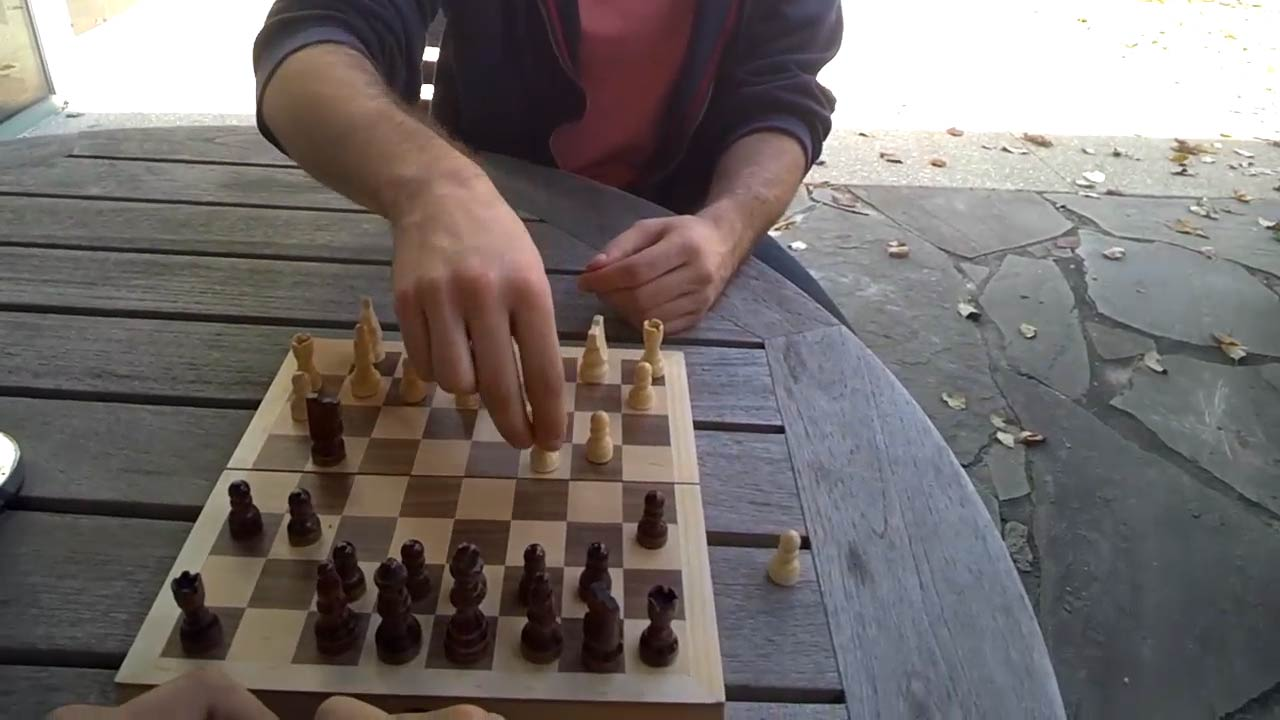hand: (389, 171, 574, 447), (584, 213, 733, 335), (41, 676, 281, 717), (314, 699, 496, 717)
